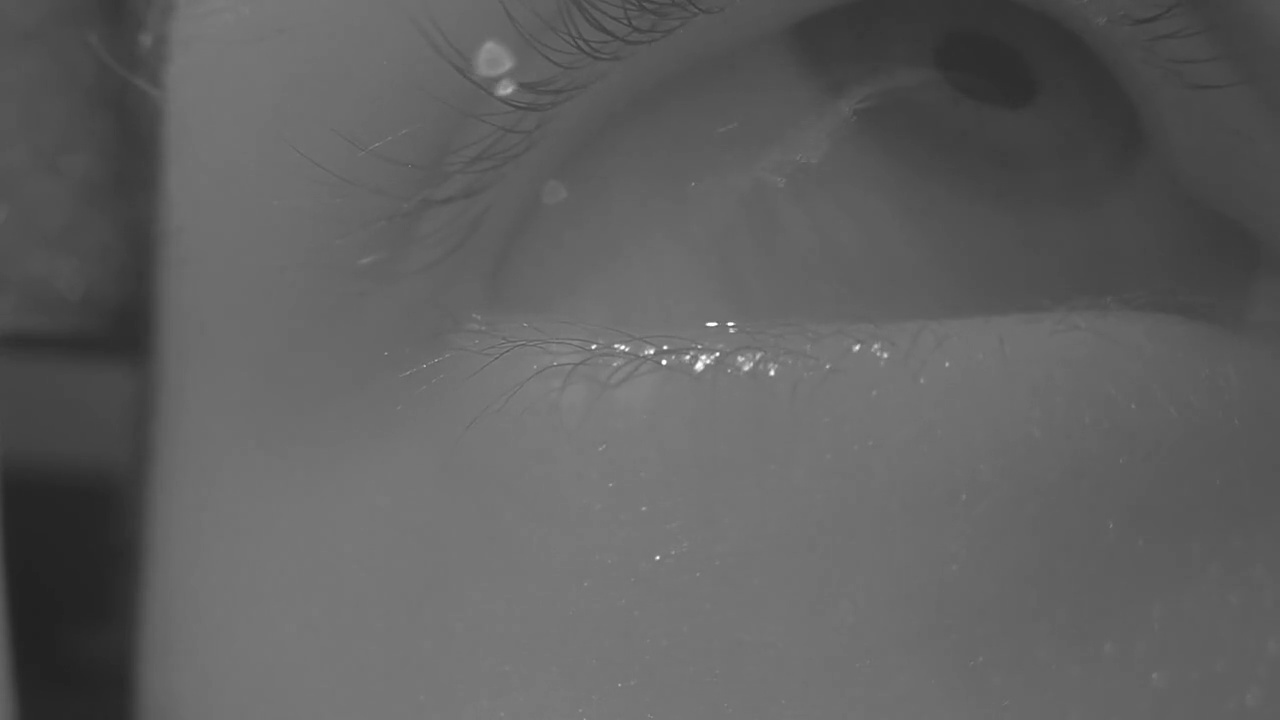pupil: (934, 29, 1039, 112)
